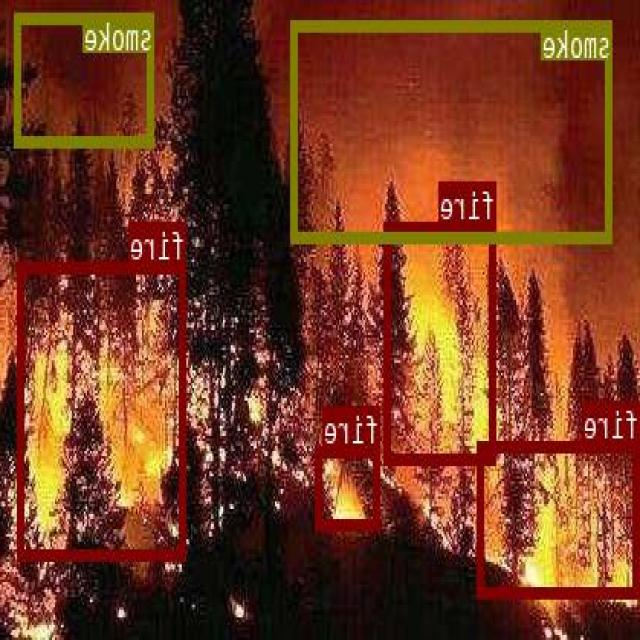fire: (18, 261, 186, 558), (386, 219, 497, 463), (478, 440, 640, 596), (317, 445, 381, 529)
smoke: (293, 18, 613, 242), (15, 11, 154, 144)
